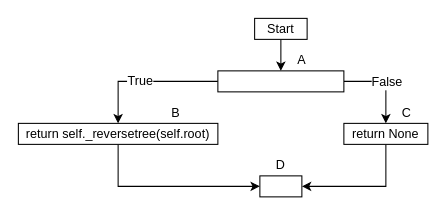
This 446x215 diagram has some shape labels left out. Here are the shapes that lost their labels. From the top down, the centre of each, then its label:
(x=280, y=81): if self.root is not None
(x=280, y=186): exit
